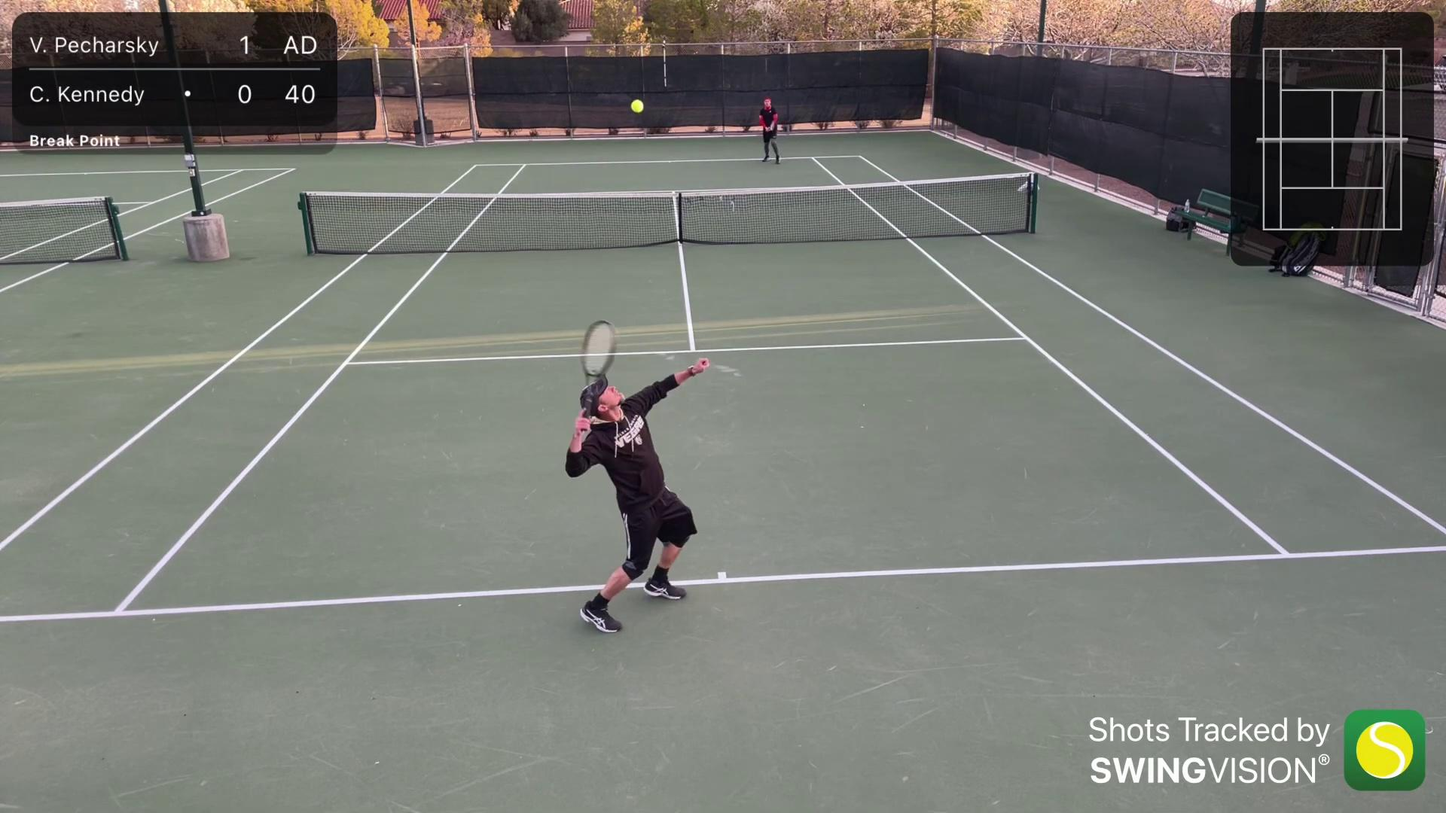ball: (628, 97, 644, 114)
